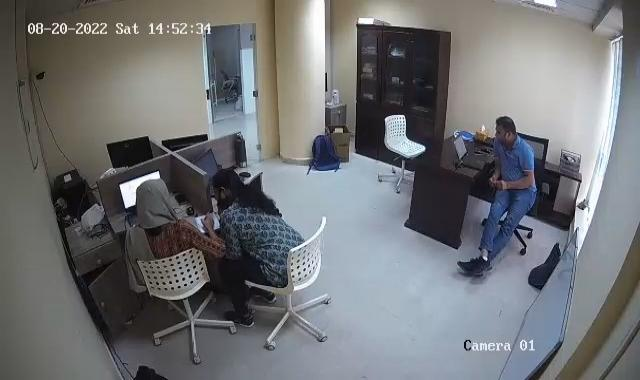no_hairnet: (130, 178, 166, 212), (208, 167, 241, 197), (492, 109, 518, 142)
